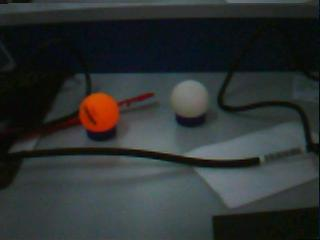oball: (79, 94, 120, 134)
